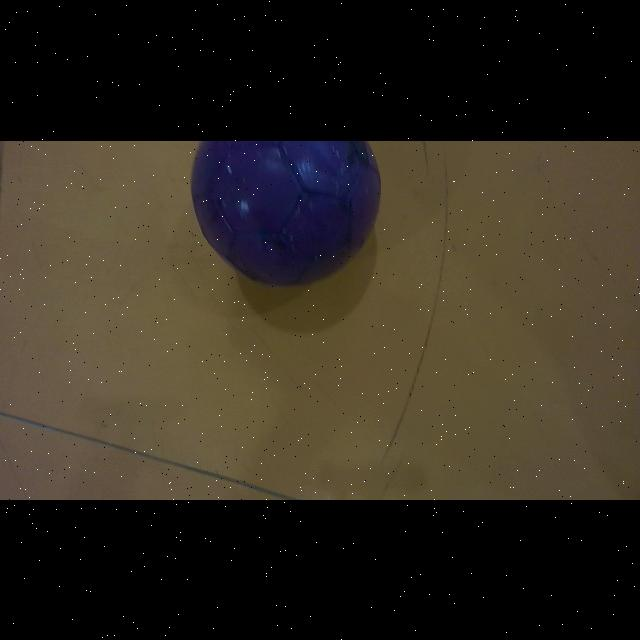P: (191, 140, 381, 284)
